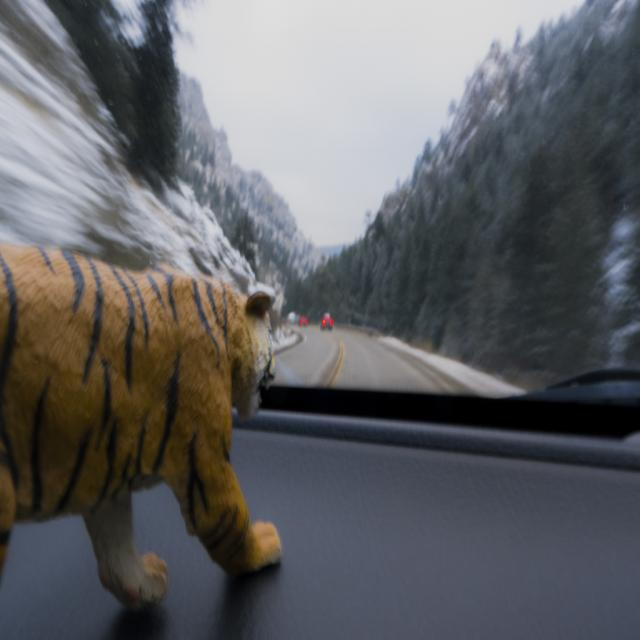Tiger: (0, 239, 277, 606)
